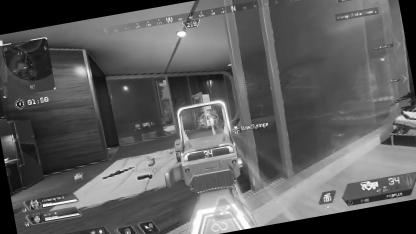Target: (210, 108, 220, 126), (204, 107, 212, 125)
